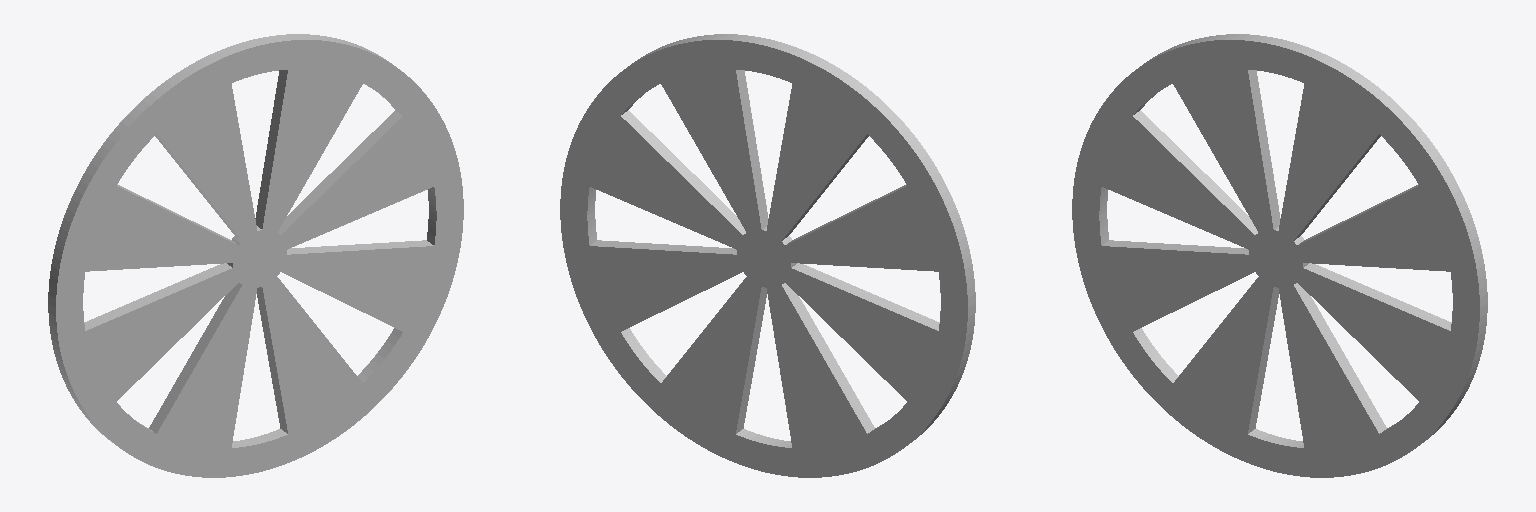
Rendered from Tomato.obj.
The picture shows the model from 3 angles: view 1: azimuth 30°, elevation 25°; view 2: azimuth 150°, elevation 25°; view 3: azimuth 330°, elevation 25°; orthographic projection.
Visible parts, largest first — view 1: Tomato; view 2: Tomato; view 3: Tomato.
Part boxes in pixels (left/top/right/bottom): Tomato: left=48, top=34, right=463, bottom=477; Tomato: left=560, top=34, right=975, bottom=477; Tomato: left=1072, top=34, right=1487, bottom=477.
Size of the model in its own units: 0.0762 by 0.0762 by 0.0025.